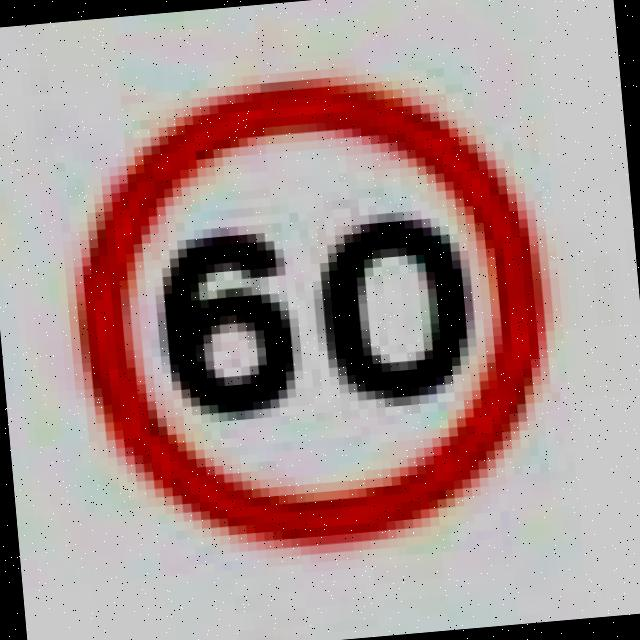Ograniczenie predkosci do 60: (50, 61, 552, 556)
